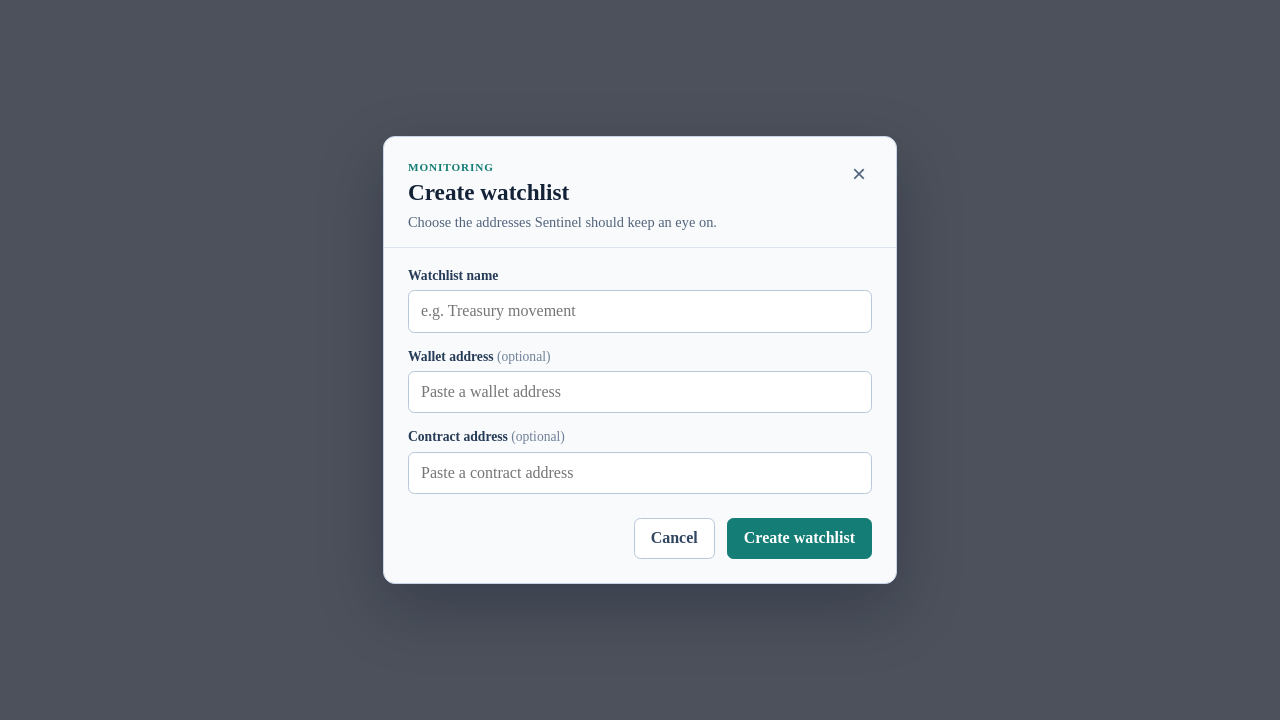
it: WatchlistCreationModal › keeps the dialog open and reports a submission error
Type "Treasury" into the field labelled "Watchlist name".
click(640, 311); type("Treasury")  # box x1=408 y1=290 x2=872 y2=333
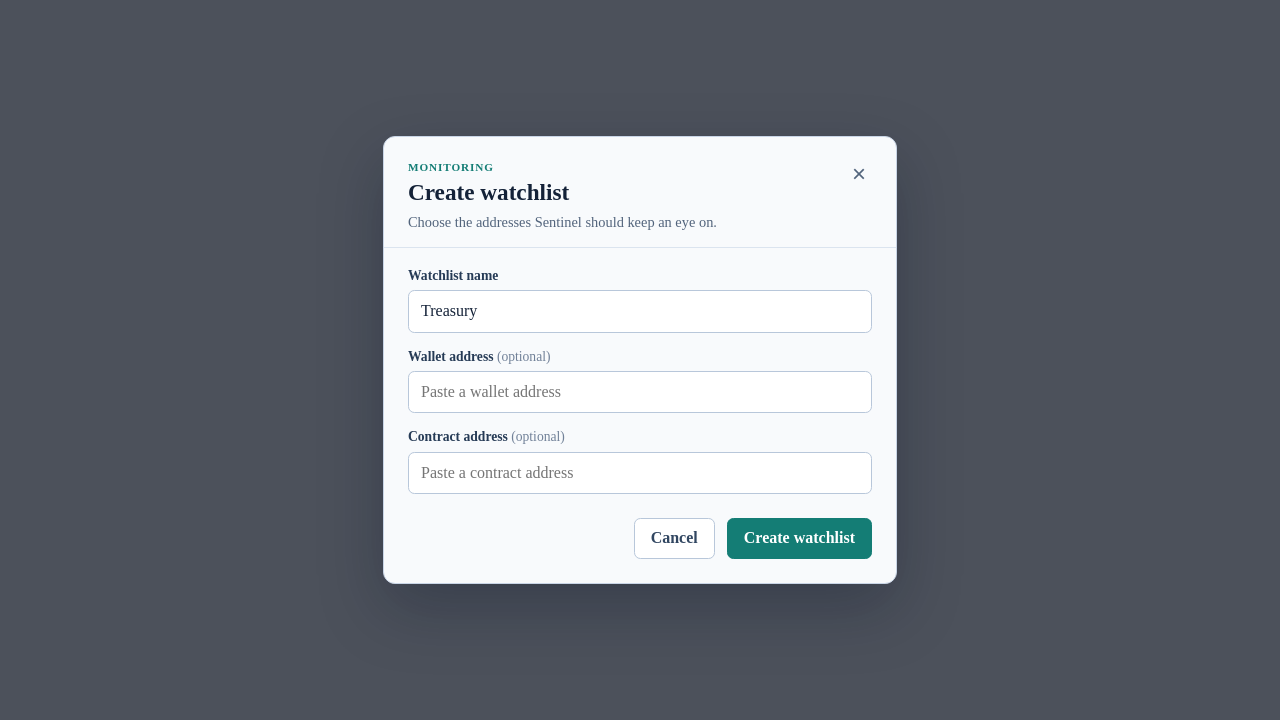
Type "contract-1" into the field labelled "Contract address (optional)".
click(640, 473); type("contract-1")  # box x1=408 y1=452 x2=872 y2=494
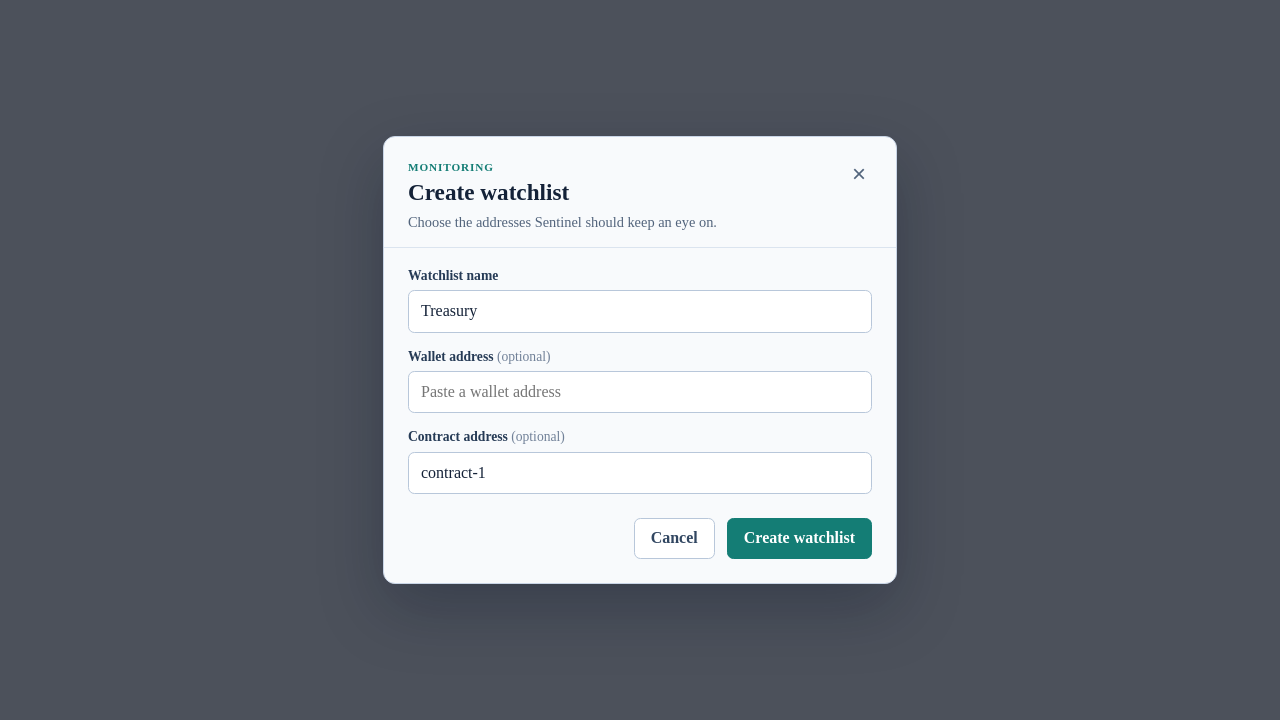
Click the button "Create watchlist".
click(799, 538)  # box x1=727 y1=518 x2=872 y2=559
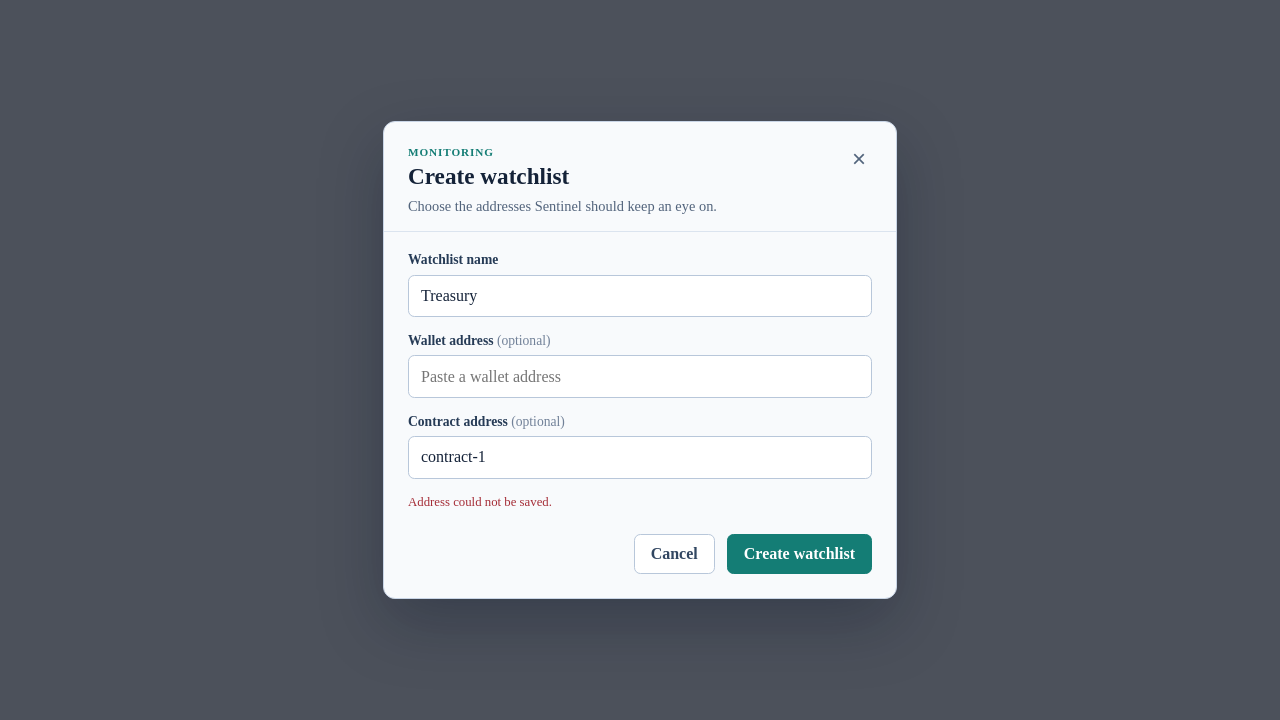
Expected: the message reads "Address could not be saved.", x1=408 y1=495 x2=552 y2=509
